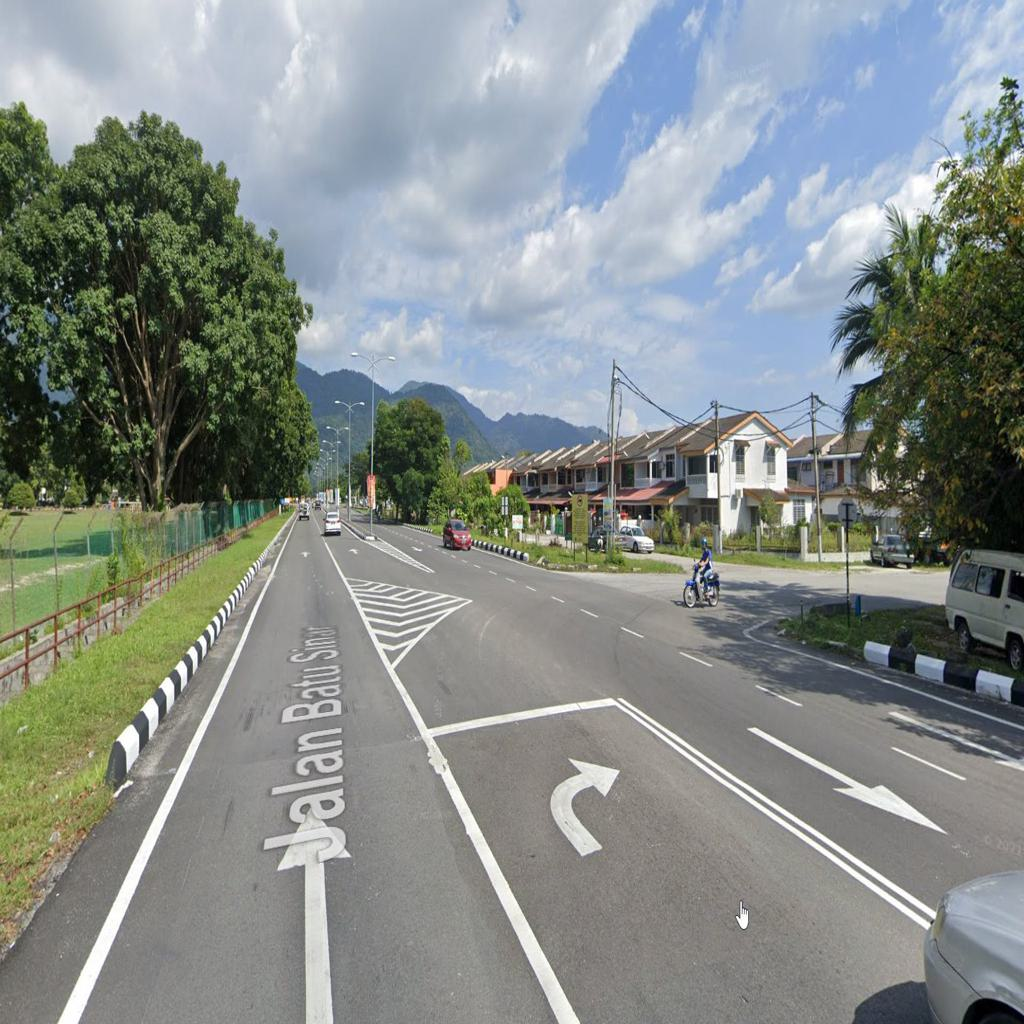Junction: (544, 516, 902, 687)
